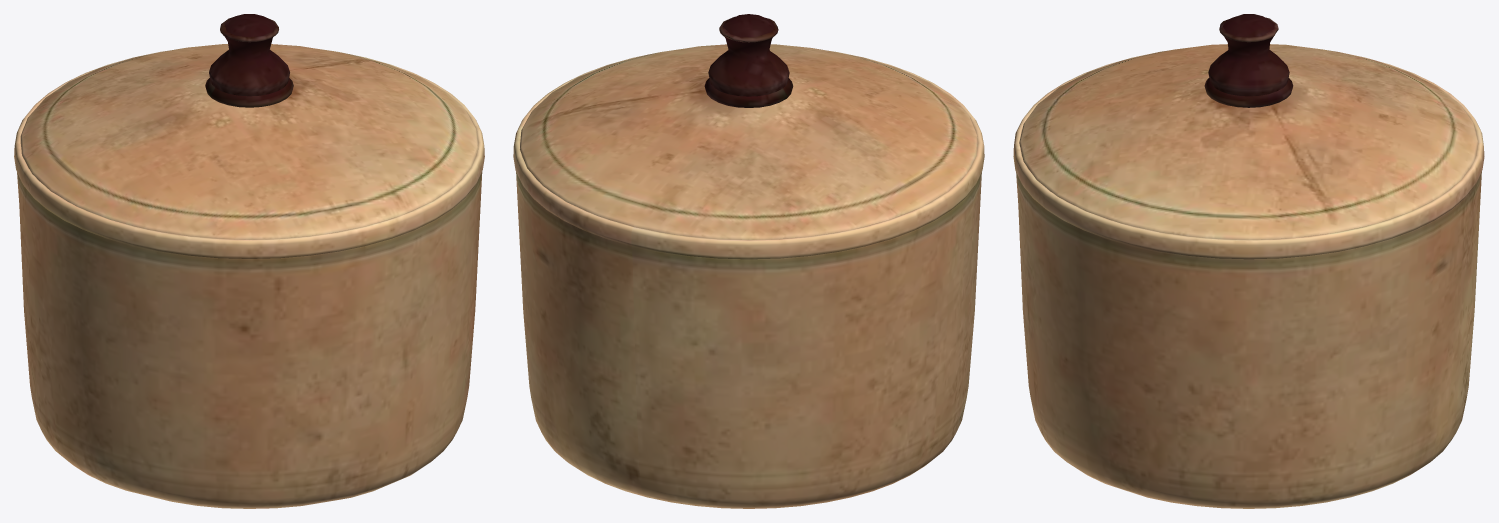
Rendered from brass_pot.glb.
The picture shows the model from 3 angles, left to right: view 1: azimuth 30°, elevation 25°; view 2: azimuth 150°, elevation 25°; view 3: azimuth 270°, elevation 25°; orthographic projection.
Visible parts, largest first — view 1: brass_pot_01; view 2: brass_pot_01; view 3: brass_pot_01.
Part boxes in pixels (left/top/right/bottom): brass_pot_01: left=14, top=14, right=484, bottom=508; brass_pot_01: left=513, top=14, right=984, bottom=508; brass_pot_01: left=1013, top=14, right=1484, bottom=508.
Size of the model in its own units: 0.3019 by 0.2909 by 0.3017.
1 material, 1 textured.
